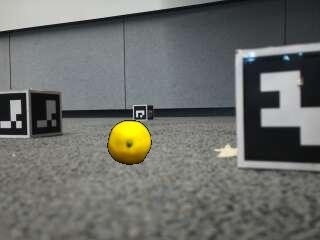lemon: (110, 121, 152, 164)
